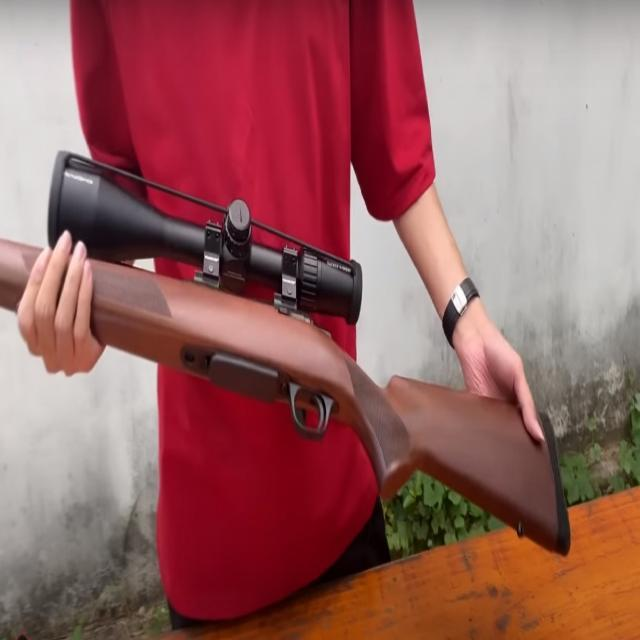rifle: (1, 128, 578, 580)
